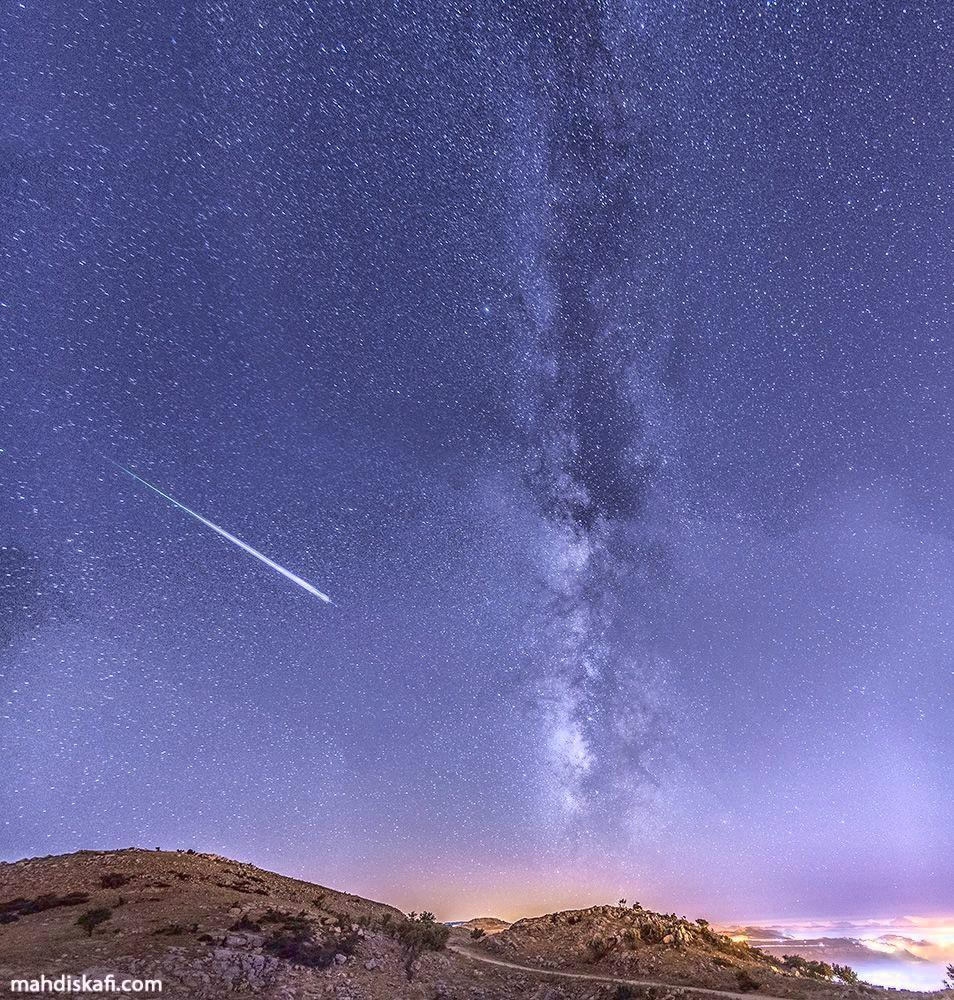meteorite: (89, 416, 363, 611)
